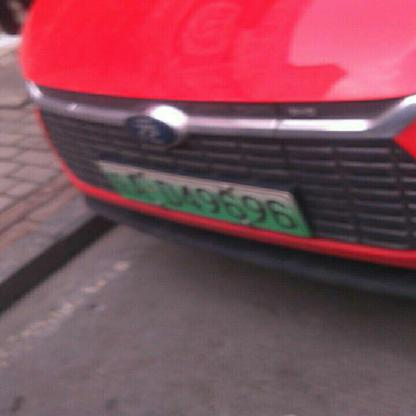lp: (99, 163, 307, 234)
